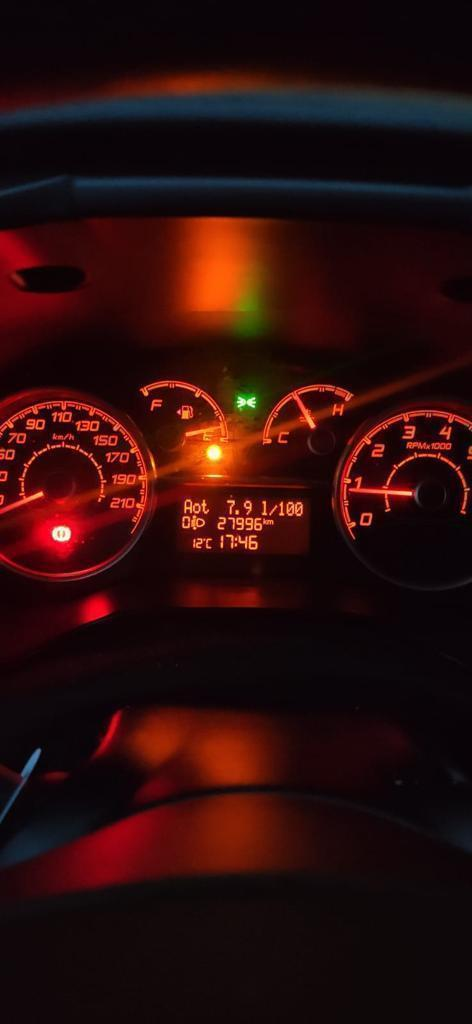,: (234, 509, 240, 515)
0: (295, 501, 303, 517), (286, 500, 293, 517), (182, 515, 190, 528)
1: (277, 500, 285, 518), (219, 534, 223, 551), (192, 537, 195, 550)
2: (217, 516, 226, 530), (196, 537, 202, 549)
4: (238, 534, 247, 550)
6: (248, 534, 258, 550), (254, 517, 263, 531)
7: (225, 499, 235, 515), (225, 533, 233, 549), (227, 516, 235, 530)
9: (243, 499, 253, 515), (235, 516, 244, 530), (245, 516, 253, 531)
X: (201, 498, 210, 514), (183, 498, 192, 513), (261, 499, 268, 516), (269, 504, 277, 516), (192, 502, 200, 513), (205, 538, 212, 549), (267, 519, 274, 525), (262, 517, 267, 524), (234, 536, 237, 547)
odometer: (176, 490, 311, 556)
